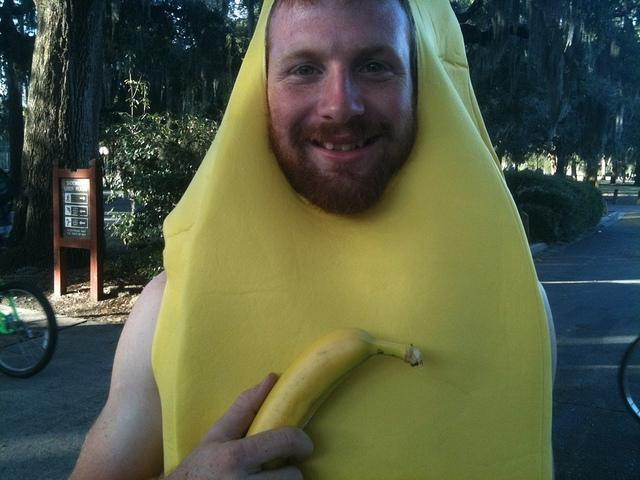bicycle: (0, 277, 56, 378), (614, 330, 640, 421)
